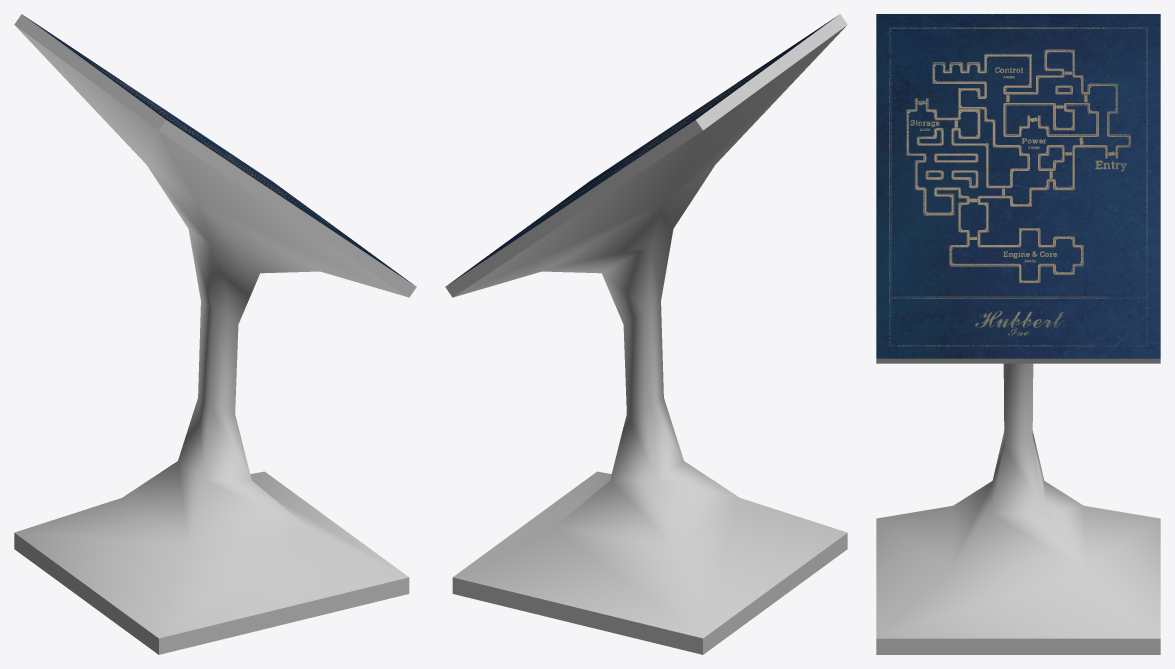
The model's file is Map.FBX.
The picture shows the model from 3 angles, left to right: view 1: azimuth 30°, elevation 25°; view 2: azimuth 150°, elevation 25°; view 3: azimuth 270°, elevation 25°; orthographic projection.
Parts seen in each view (by area): view 1: Box005, Map; view 2: Box005, Map; view 3: Map, Box005.
Boxes of the visible parts, x1,y1,x2,y2 form: Box005: [14, 14, 416, 654]; Map: [25, 16, 413, 284]; Box005: [445, 14, 847, 654]; Map: [448, 16, 836, 284]; Map: [876, 14, 1160, 358]; Box005: [876, 358, 1160, 654].
Bounding box in the file's own units: 27.81 × 54.93 × 27.01.
